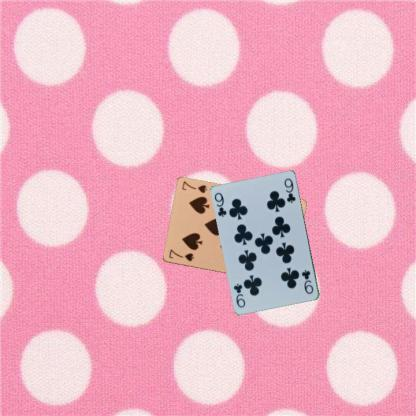7s: (166, 247, 195, 263)
9c: (212, 190, 228, 218), (299, 268, 315, 295)
